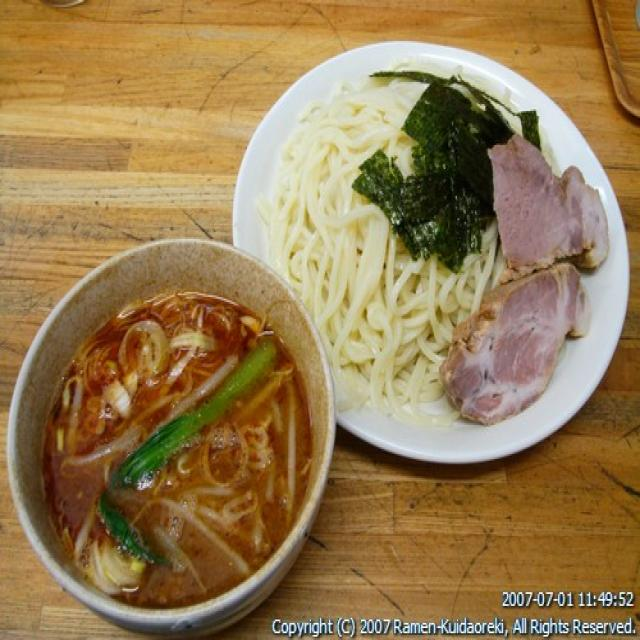面条主食: (36, 66, 591, 624)
